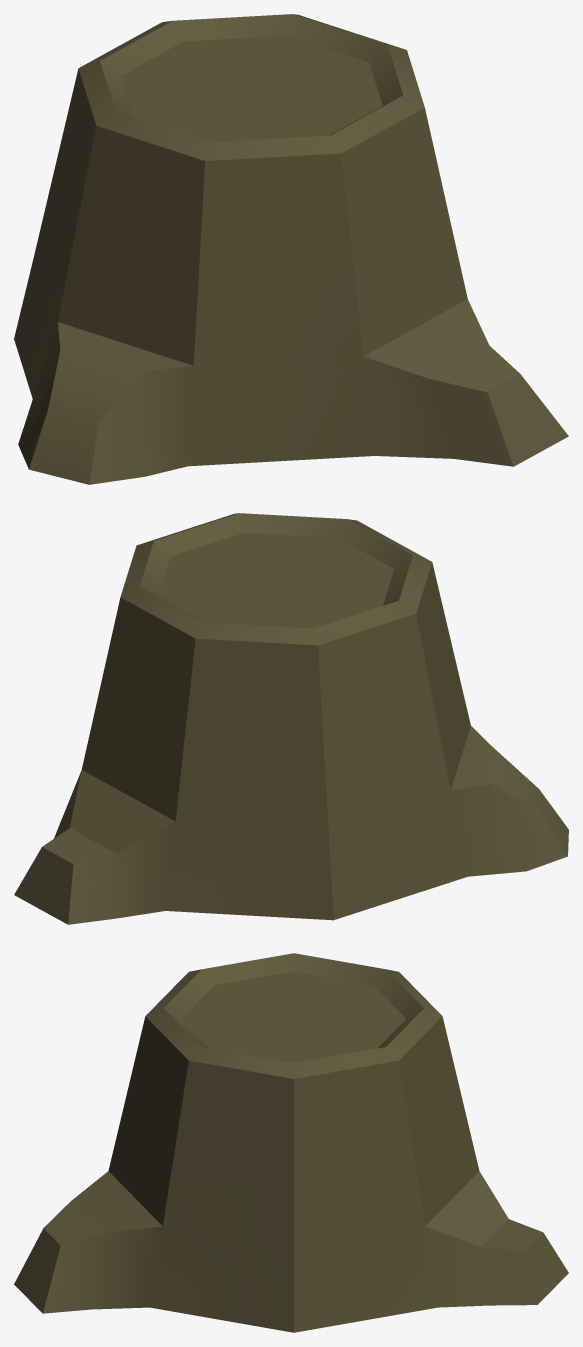
The model's file is Arbol sin hojas 3.fbx.
The picture shows the model from 3 angles, top to bottom: view 1: azimuth 30°, elevation 25°; view 2: azimuth 150°, elevation 25°; view 3: azimuth 270°, elevation 25°; orthographic projection. The views are drawn at different scales.
Visible parts, largest first — view 1: Arbol_sin_hojas_3; view 2: Arbol_sin_hojas_3; view 3: Arbol_sin_hojas_3.
Boxes of the visible parts, x1,y1,x2,y2 form: Arbol_sin_hojas_3: (14,14,568,484); Arbol_sin_hojas_3: (14,513,568,924); Arbol_sin_hojas_3: (14,953,568,1332).
Size of the model in its own units: 2.26 by 1.28 by 2.69.
